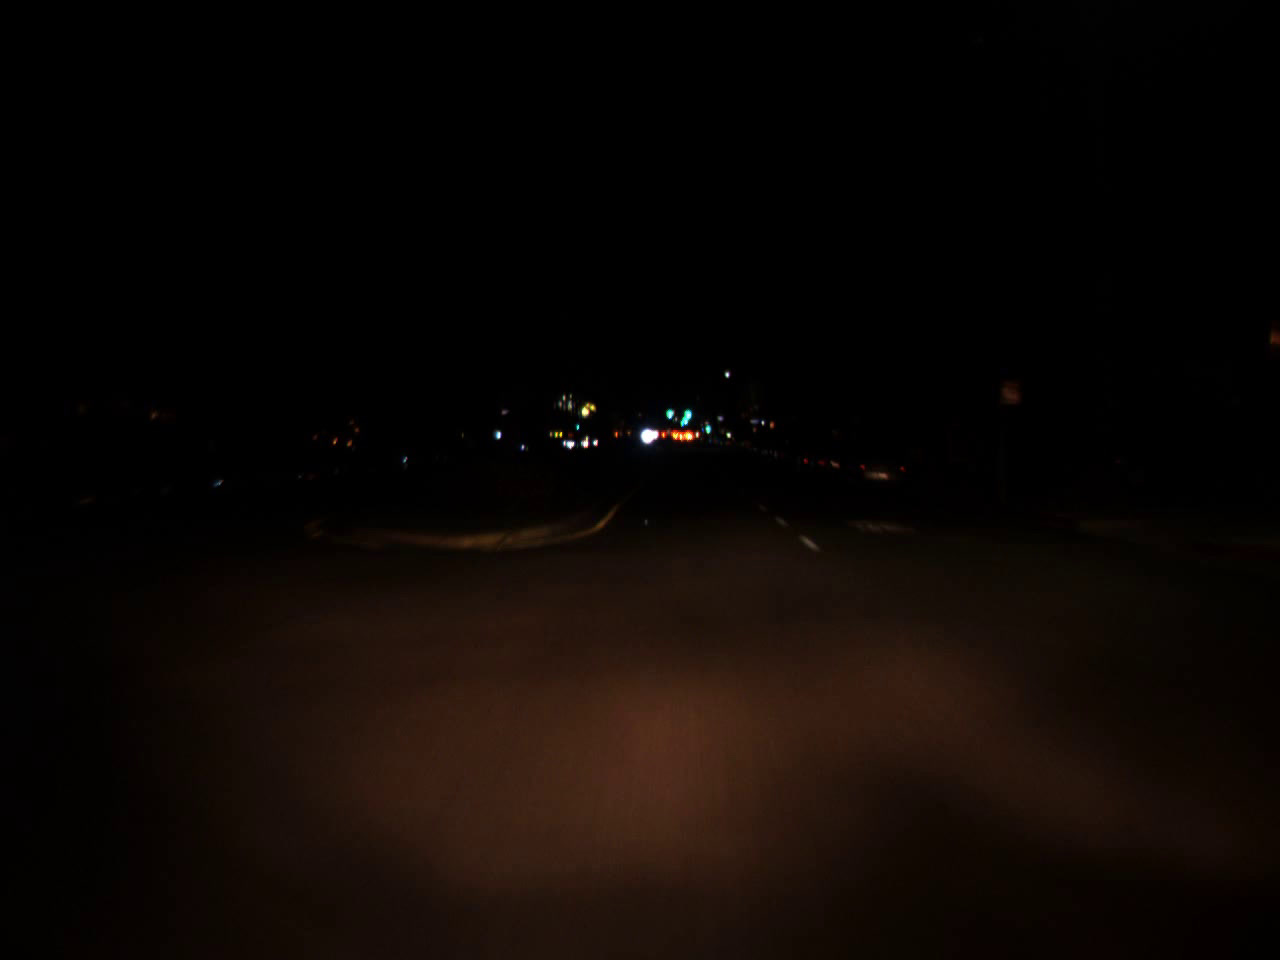go: (679, 396, 693, 419), (664, 396, 673, 423), (703, 415, 711, 436), (572, 416, 581, 431)
